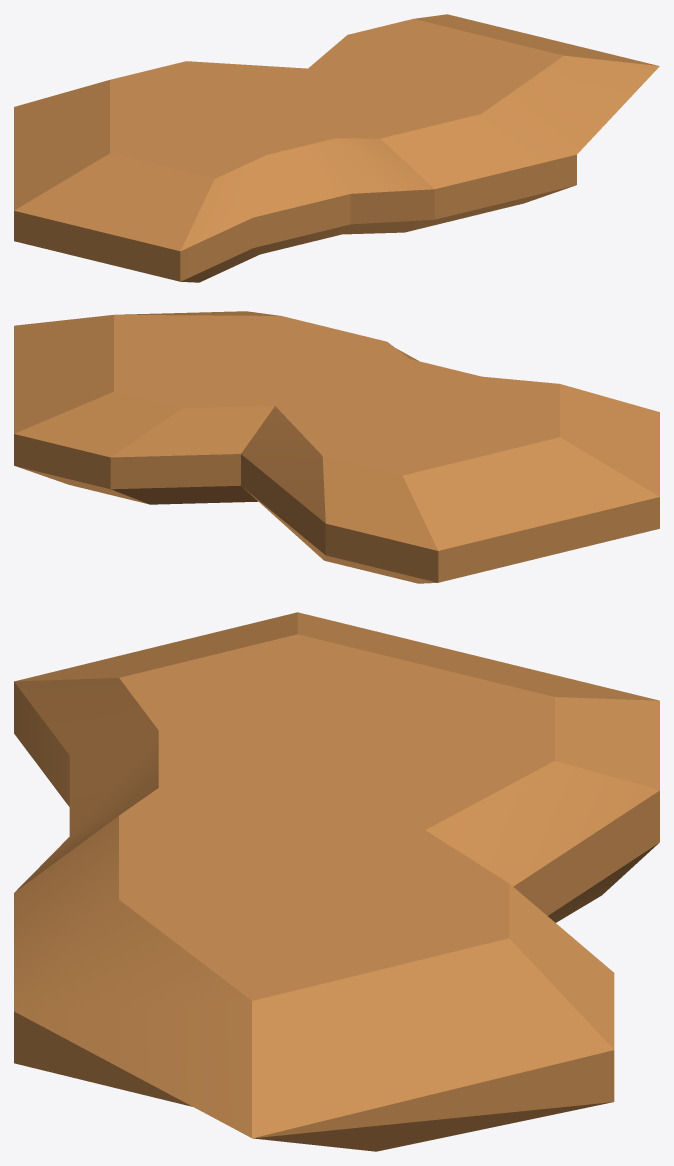
The model's file is Rock_Large_Flat_Dirt_02.fbx.
3 views of the same model, one above another, from view 1: azimuth 30°, elevation 25°; view 2: azimuth 150°, elevation 25°; view 3: azimuth 270°, elevation 25° (orthographic). The views are drawn at different scales.
Visible parts, largest first — view 1: Model; view 2: Model; view 3: Model.
Boxes of the visible parts, left/top/right/bottom form: Model: left=14, top=14, right=659, bottom=282; Model: left=14, top=311, right=659, bottom=583; Model: left=14, top=612, right=659, bottom=1151.
Bounding box in the file's own units: 2272 × 297 × 1179.
